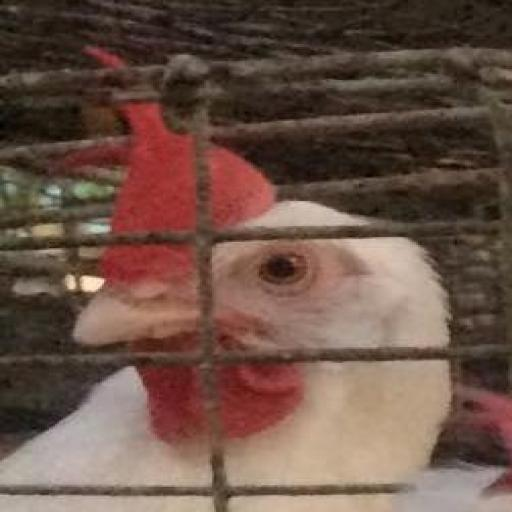healthy: (97, 177, 421, 407)
